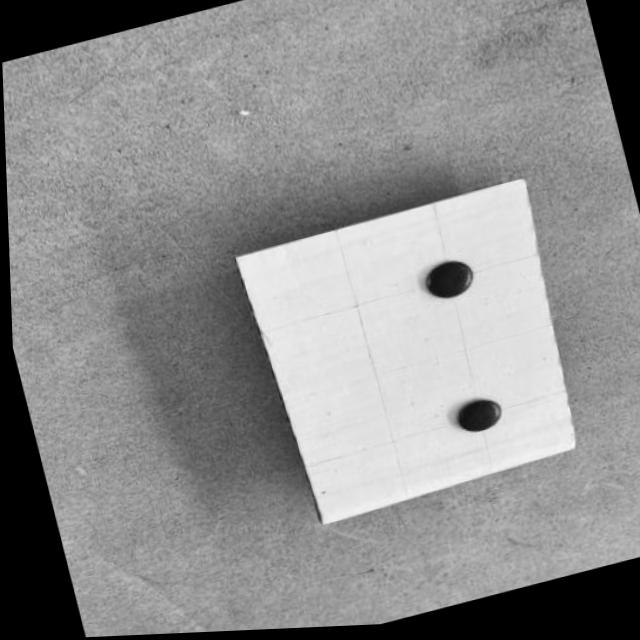braiile: (237, 188, 568, 521)
